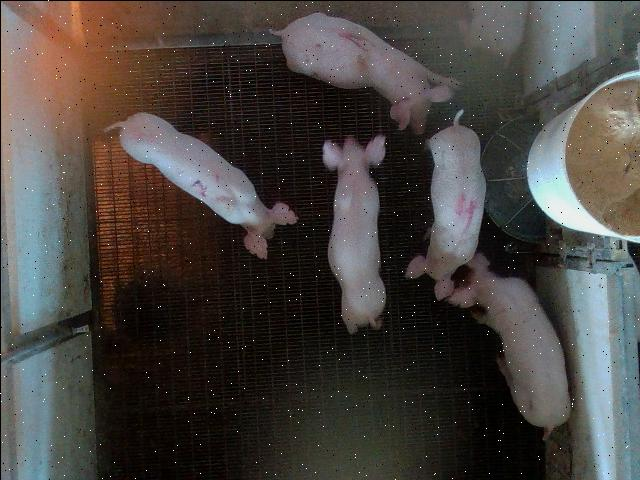pig-1: (270, 12, 458, 132)
pig-4: (405, 109, 485, 299)
